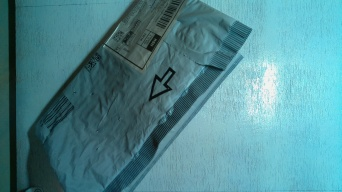a: (30, 1, 253, 192)
